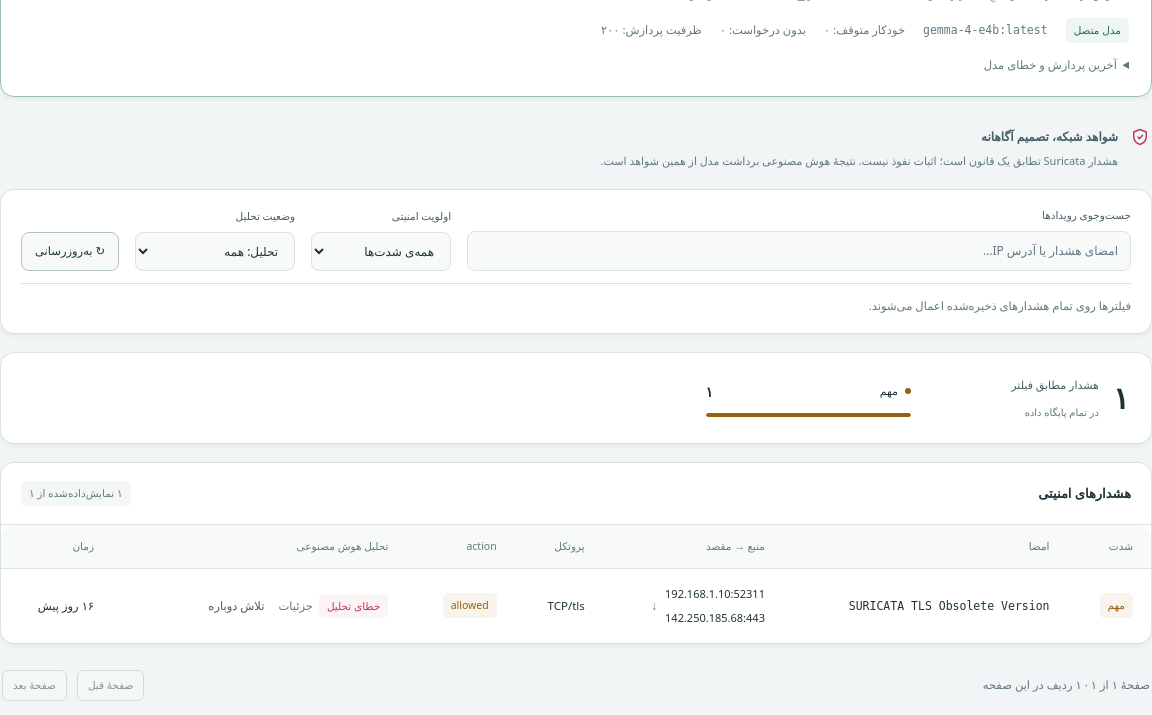
it: SecurityPage AI analysis › retries a failed event from its dialog and presents request errors there
(page scrolled)
Click the text "جزئیات" at point(296, 606), box [278,596,313,616]
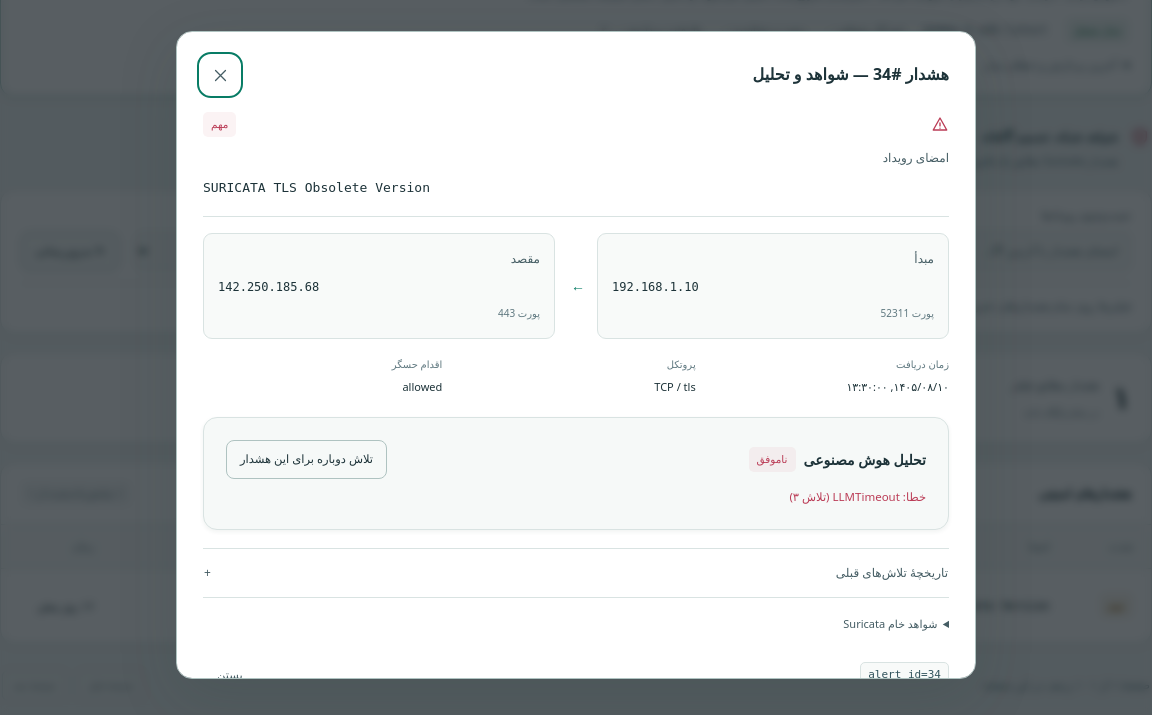
Click the button "تلاش دوباره برای این هشدار" at point(306, 459), box [226,440,387,479]
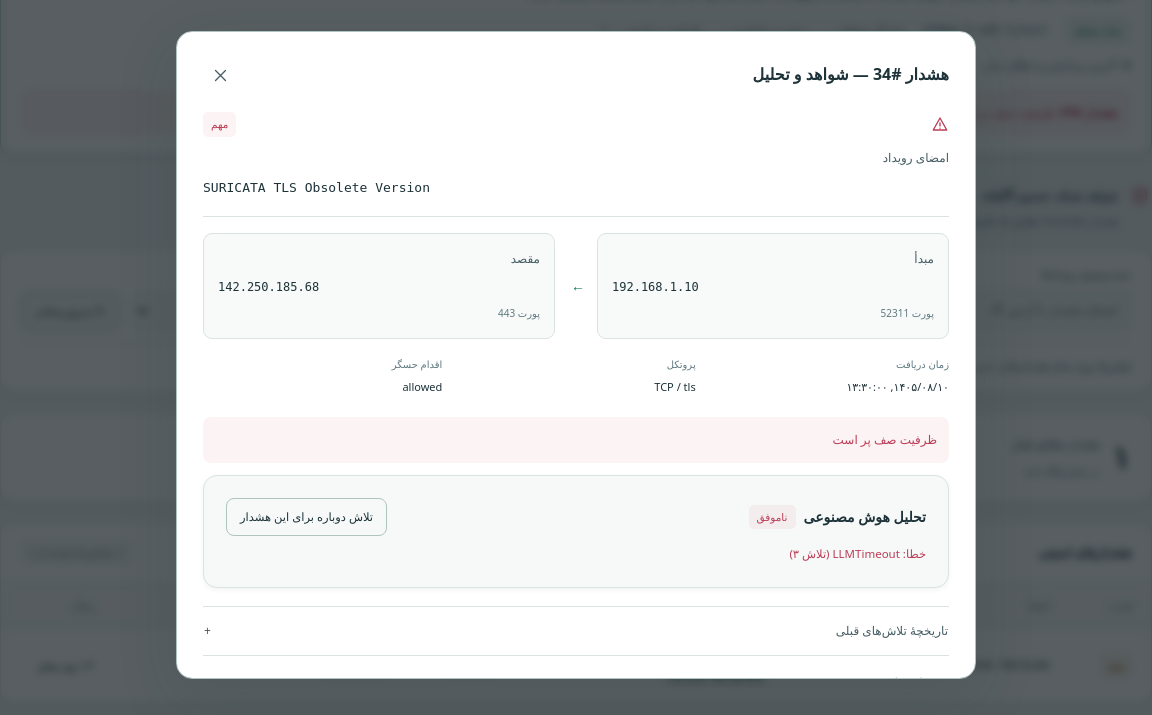
Check: the message reads "ظرفیت صف پر است", box [833,431,937,448]
